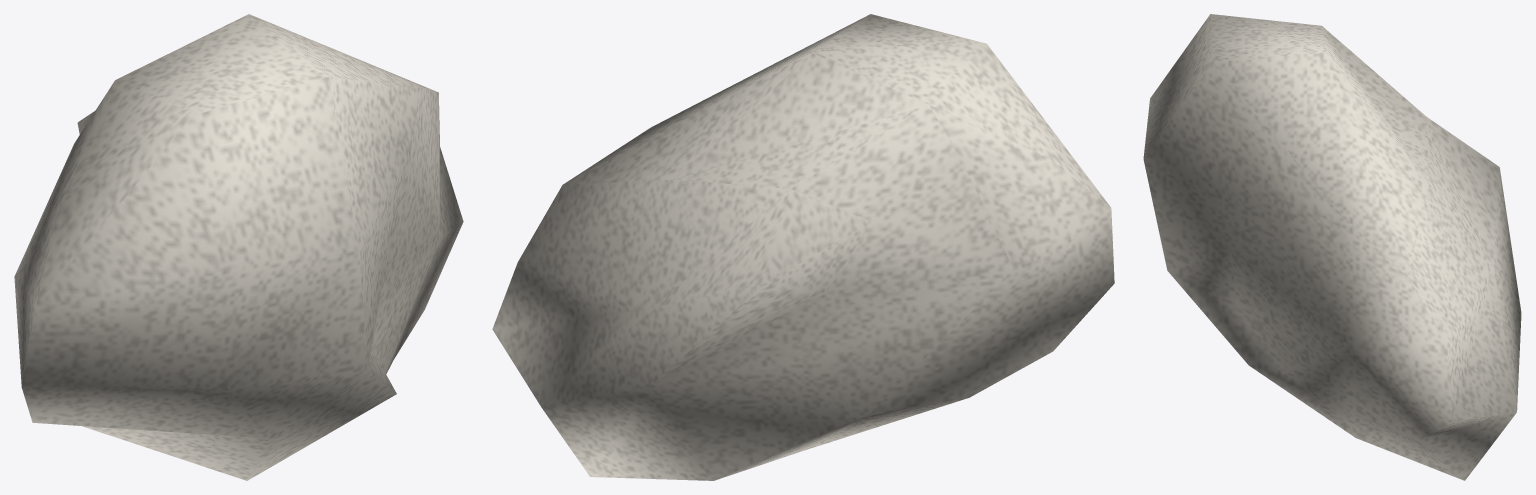
File: mineral1.gltf
3 renders of one model, left to right at view 1: azimuth 30°, elevation 25°; view 2: azimuth 150°, elevation 25°; view 3: azimuth 270°, elevation 25°, orthographic. The views are drawn at different scales.
Parts seen in each view (by area): view 1: rock; view 2: rock; view 3: rock.
Boxes of the visible parts, x1,y1,x2,y2 form: rock: [14, 14, 463, 480]; rock: [492, 14, 1114, 480]; rock: [1143, 14, 1521, 480].
Size of the model in its own units: 0.5262 by 0.4087 by 0.3846.
1 material, 1 textured.
